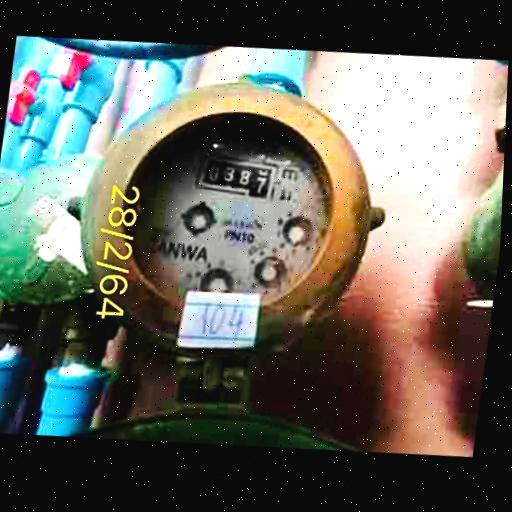0: (201, 159, 224, 186)
3: (218, 162, 241, 189)
7: (248, 167, 272, 199)
8: (236, 164, 255, 190)
border_water_meter_number: (191, 148, 282, 206)
